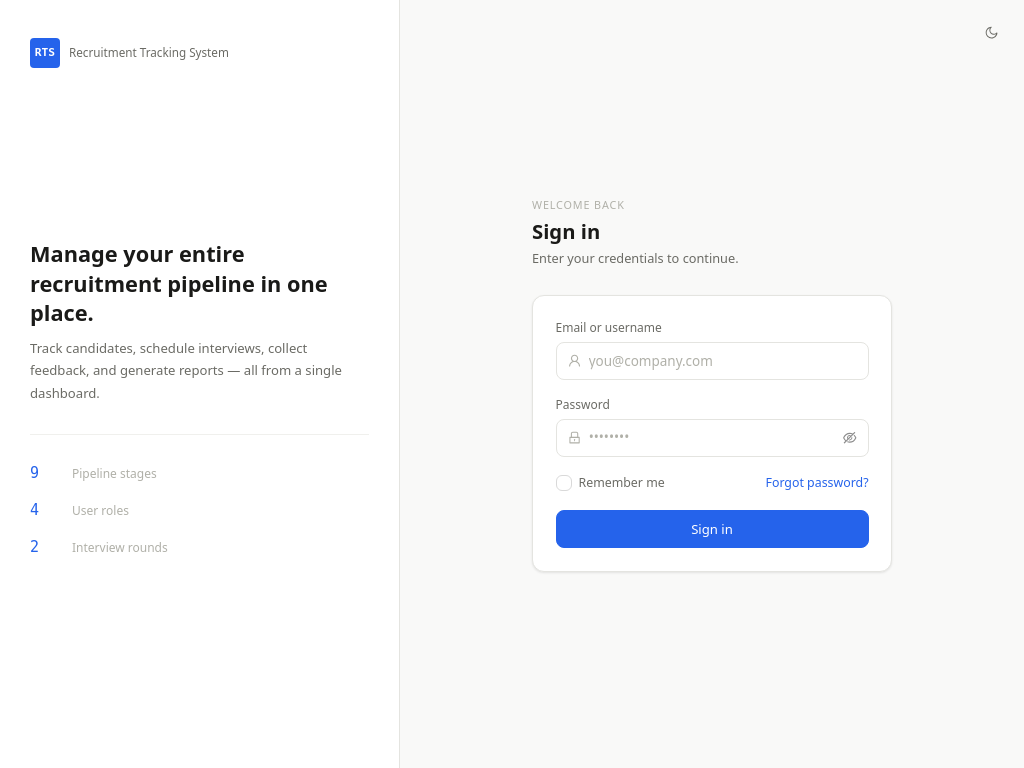
Test: LoginPage Tests › shows error when fields are empty
Click the button "Sign in" at (712, 529), box [556,510,868,548]
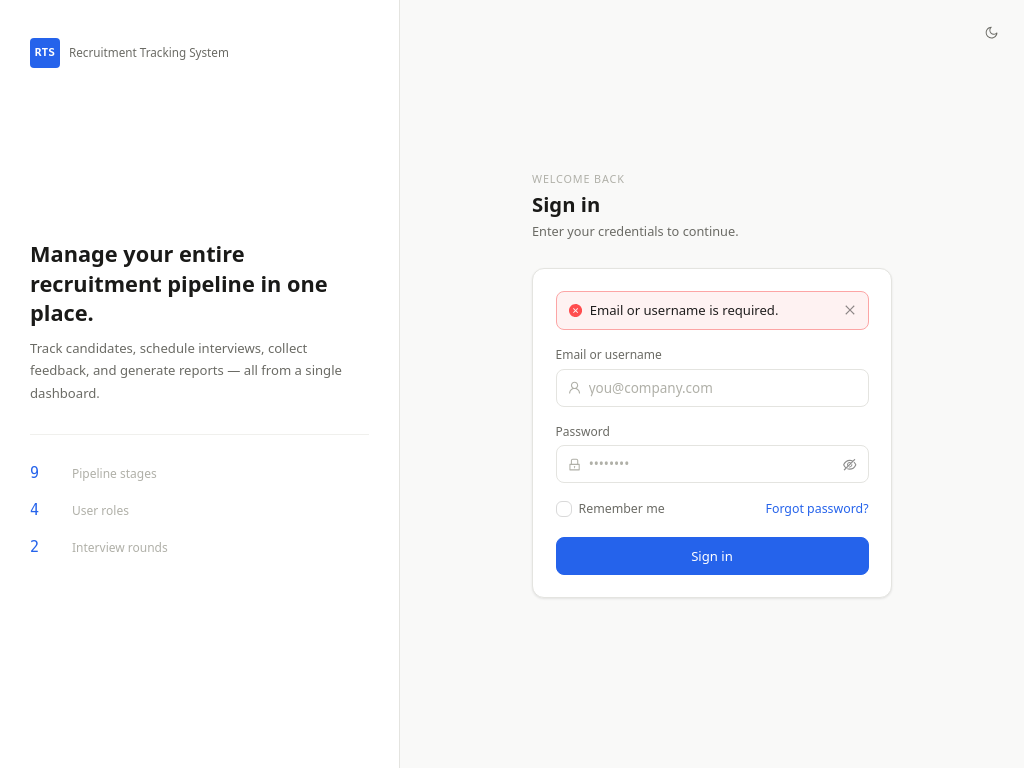
Expected: the text "Email or username is required." is shown, [590,301,778,319]
